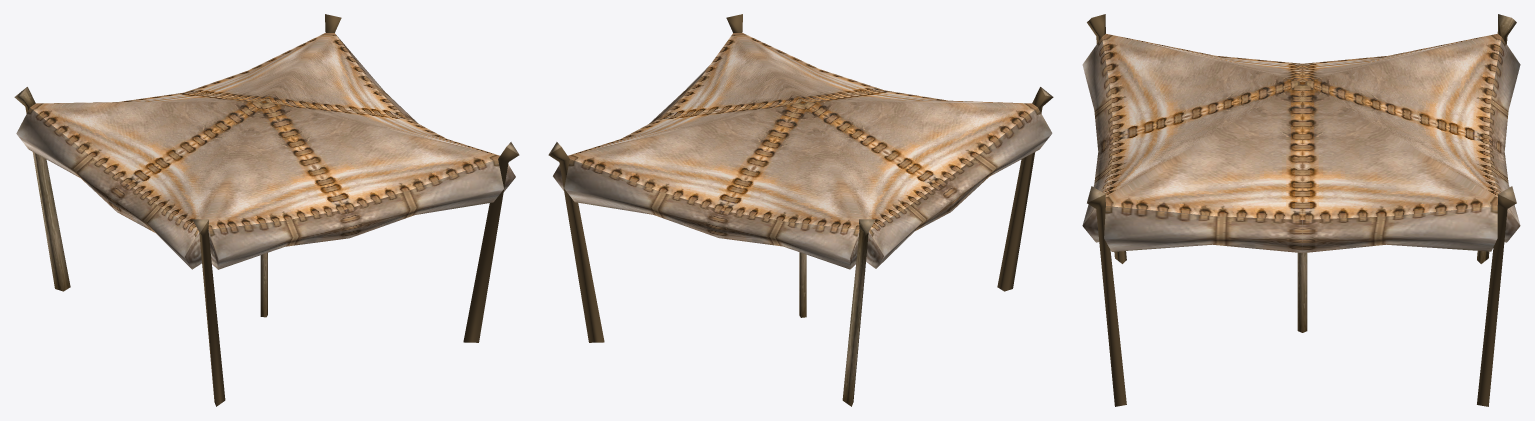
File: excavationtentpavillion.obj
3 views of the same model, side by side, from view 1: azimuth 30°, elevation 25°; view 2: azimuth 150°, elevation 25°; view 3: azimuth 270°, elevation 25° (orthographic). The views are drawn at different scales.
Parts seen in each view (by area): view 1: Geoset0, Geoset2, Geoset1; view 2: Geoset0, Geoset2, Geoset1; view 3: Geoset0, Geoset2, Geoset1.
Part boxes in pixels (x1,y1,x2,y2): Geoset0: (30, 33, 499, 230); Geoset2: (16, 35, 515, 269); Geoset1: (14, 14, 519, 406); Geoset0: (568, 32, 1037, 230); Geoset2: (553, 65, 1052, 269); Geoset1: (548, 14, 1053, 406); Geoset0: (1102, 33, 1501, 219); Geoset2: (1082, 37, 1520, 253); Geoset1: (1087, 14, 1516, 406).
Size of the model in its own units: 8.75 by 5.43 by 8.66.
Materials: 3 (3 with a texture image).
